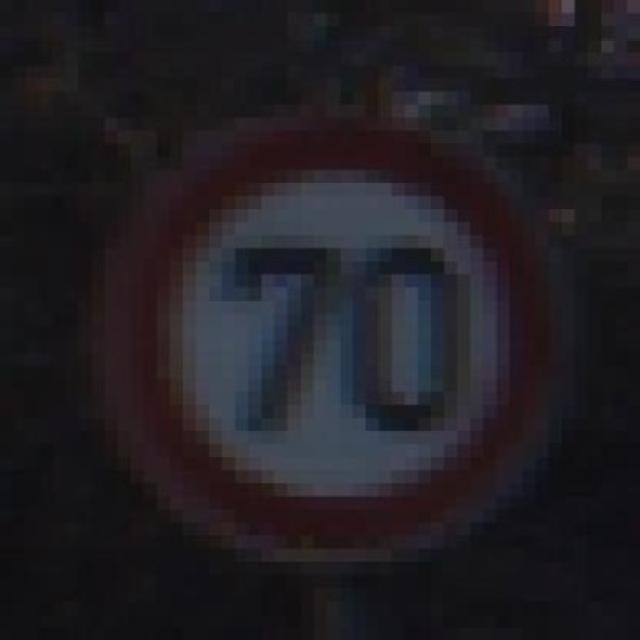forb_speed_over_70: (127, 124, 555, 550)
